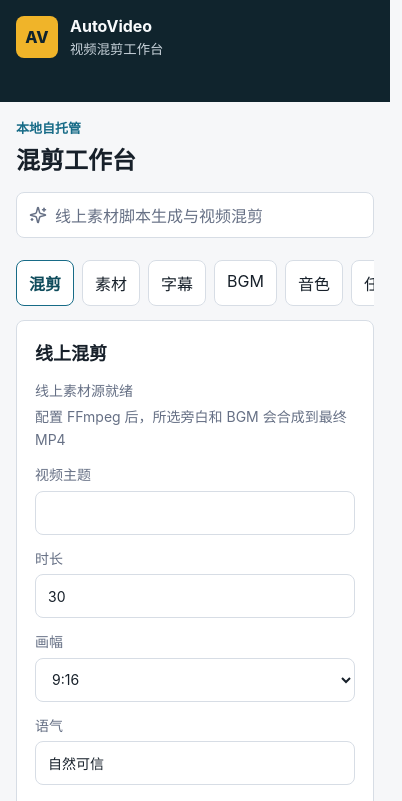
Test: AutoVideo shell › opens subtitle templates from mobile navigation and updates active state
The width and height of the screenshot is (402, 801).
Click the link "字幕". click: (177, 283)
box: [148,260,206,306]
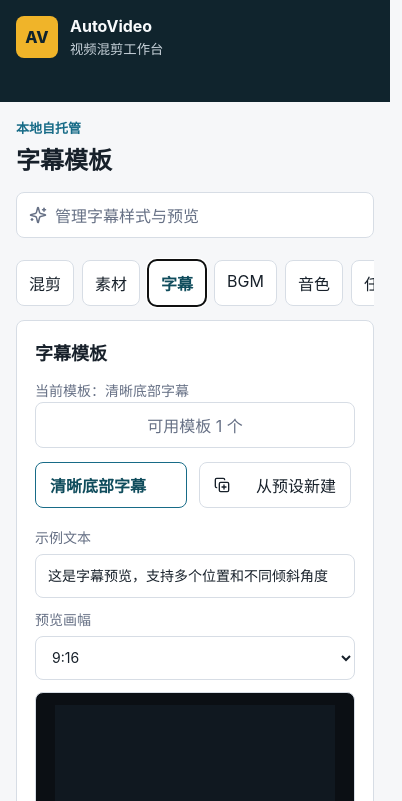
Now the heading "字幕模板" below "本地自托管" is shown, box [16,146,112,175]
